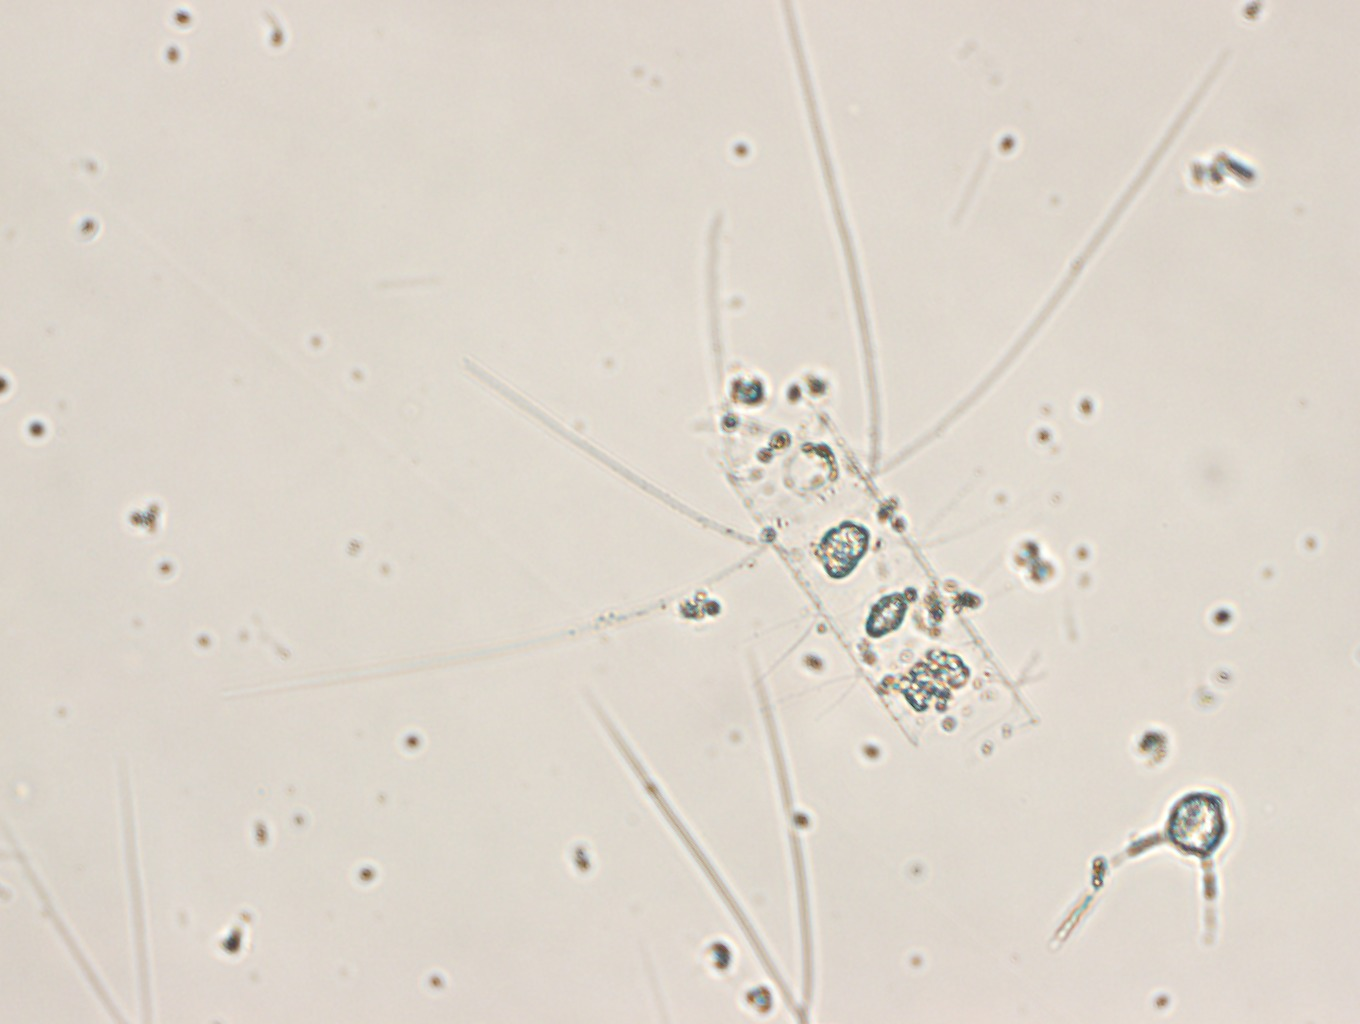chaetoceros: (264, 12, 1260, 751)
